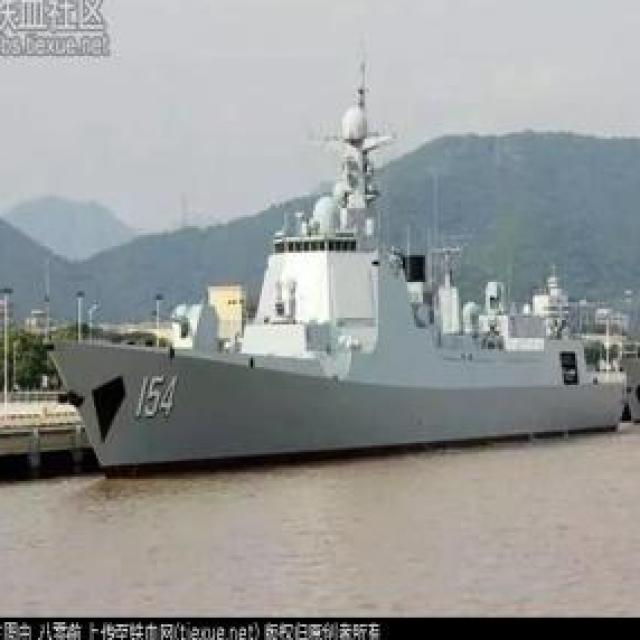navalvessels: (43, 97, 624, 466)
